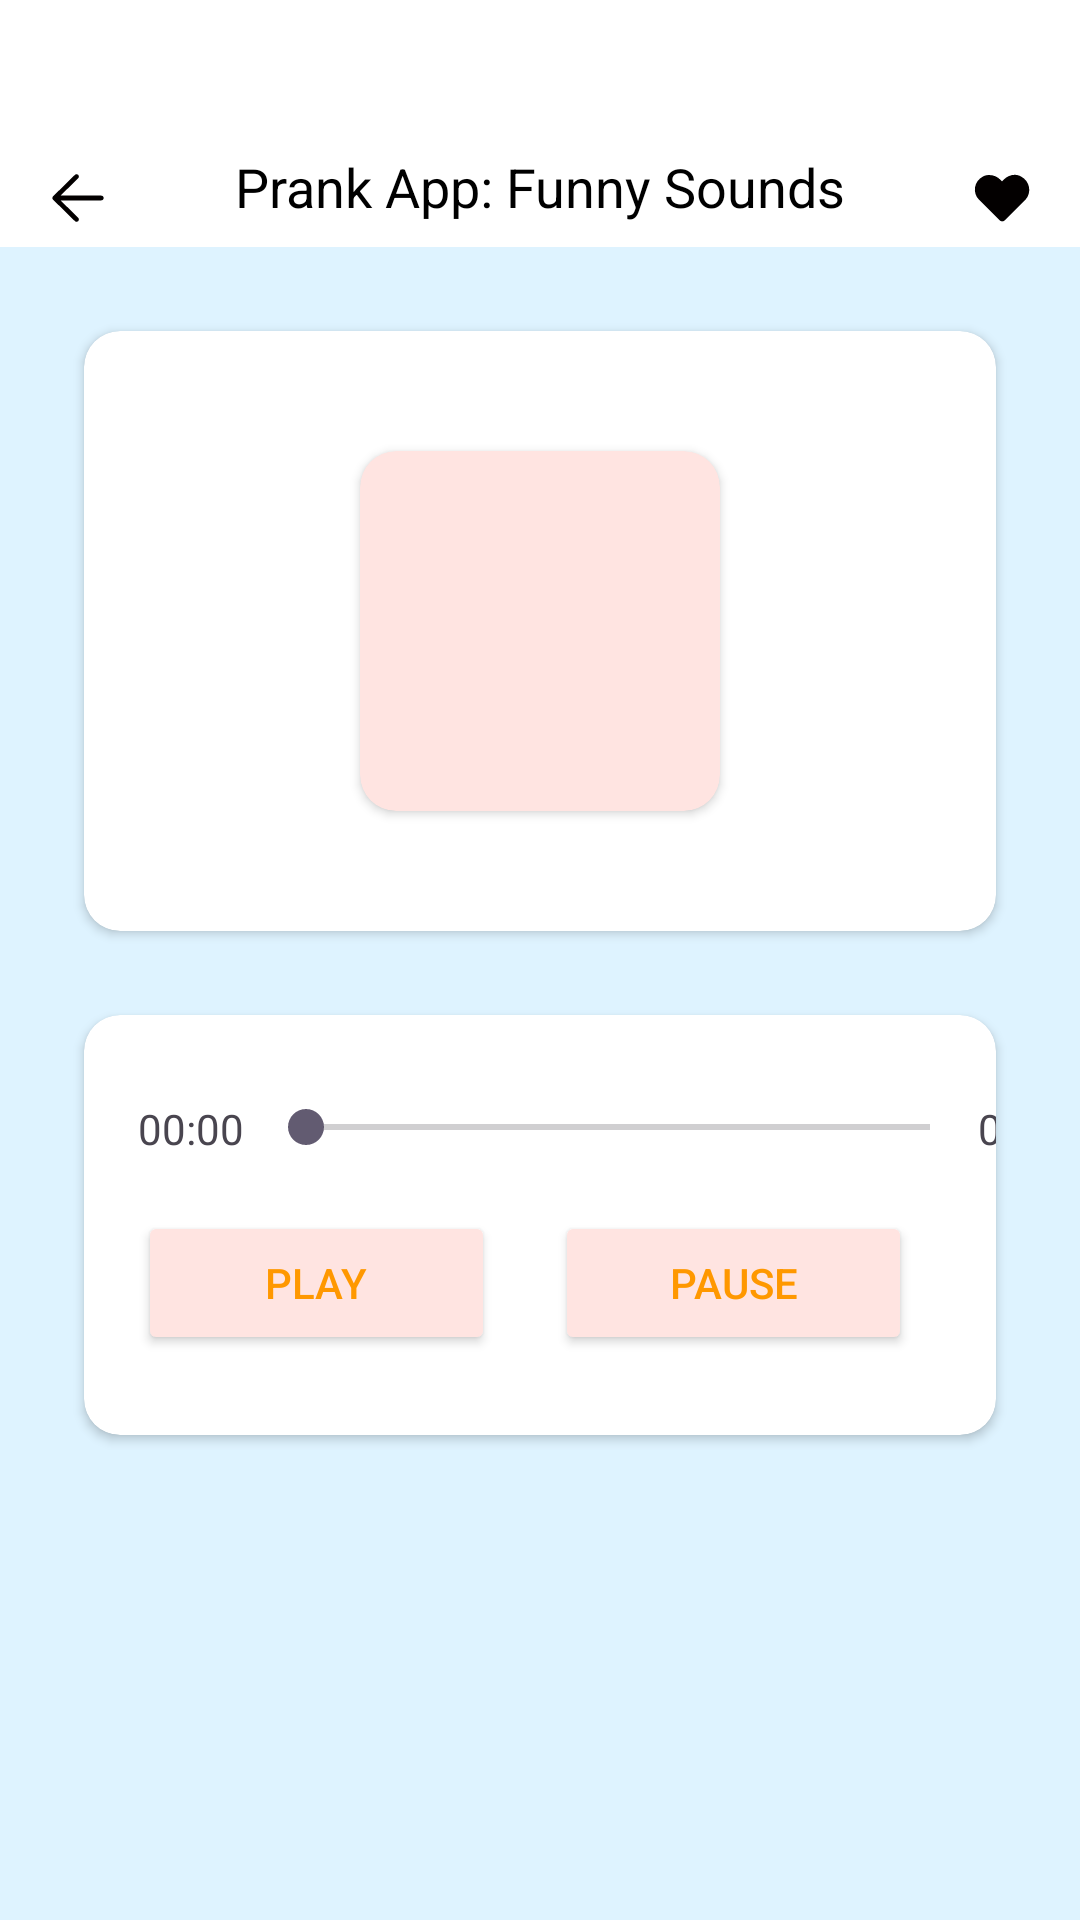

Point at icon controls on the screen. Image size 1080 x 1920, points as point (x, y).
back: point (78, 198)
like: point (1002, 198)
